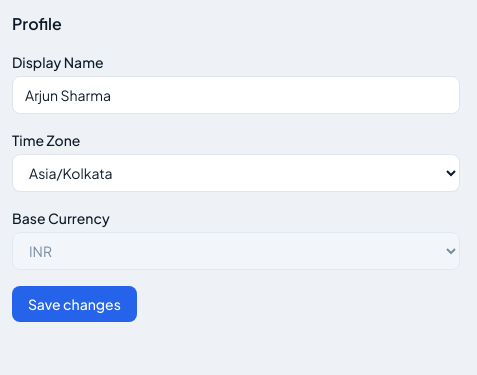
Scenario: ProfileSection — F-15-09: server error INVALID_TIMEZONE shown inline › shows inline error when PATCH returns INVALID_TIMEZONE
Check: the field labelled "Display Name" is shown, box [12,76,460,114]
Click the button "Save changes" at (74, 304), box [12,286,137,322]
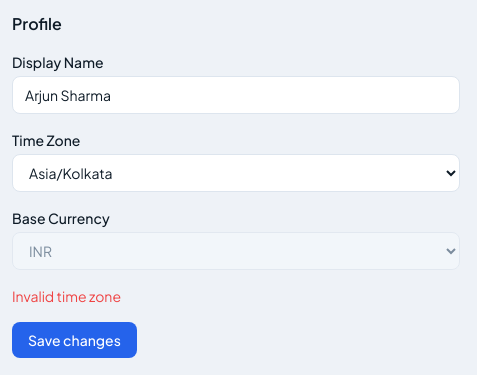
Check: the message reads "Invalid time zone", box [12,287,121,305]
